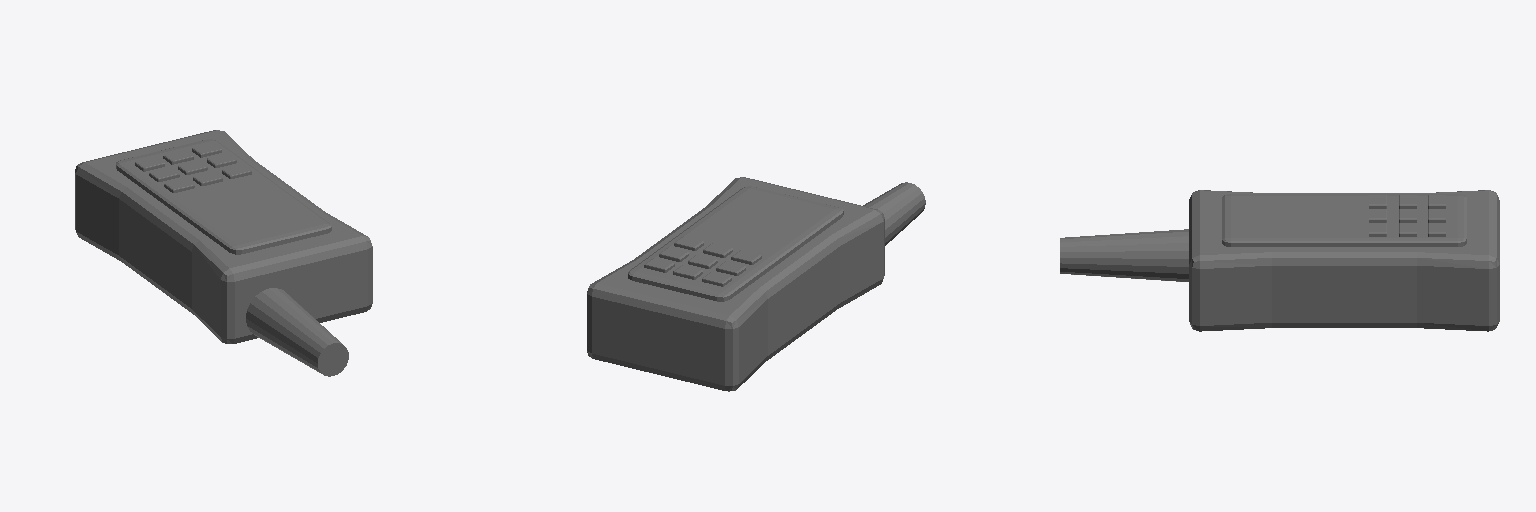
File: WalkieTalkie.obj
The picture shows the model from 3 angles: view 1: azimuth 30°, elevation 25°; view 2: azimuth 150°, elevation 25°; view 3: azimuth 270°, elevation 25°; orthographic projection.
Parts seen in each view (by area): view 1: Walkie_Talkie; view 2: Walkie_Talkie; view 3: Walkie_Talkie.
Part boxes in pixels (left/top/right/bottom): Walkie_Talkie: left=75, top=130, right=372, bottom=376; Walkie_Talkie: left=587, top=177, right=925, bottom=391; Walkie_Talkie: left=1060, top=190, right=1499, bottom=331.
Bounding box in the file's own units: 4.69 × 2.53 × 11.79.